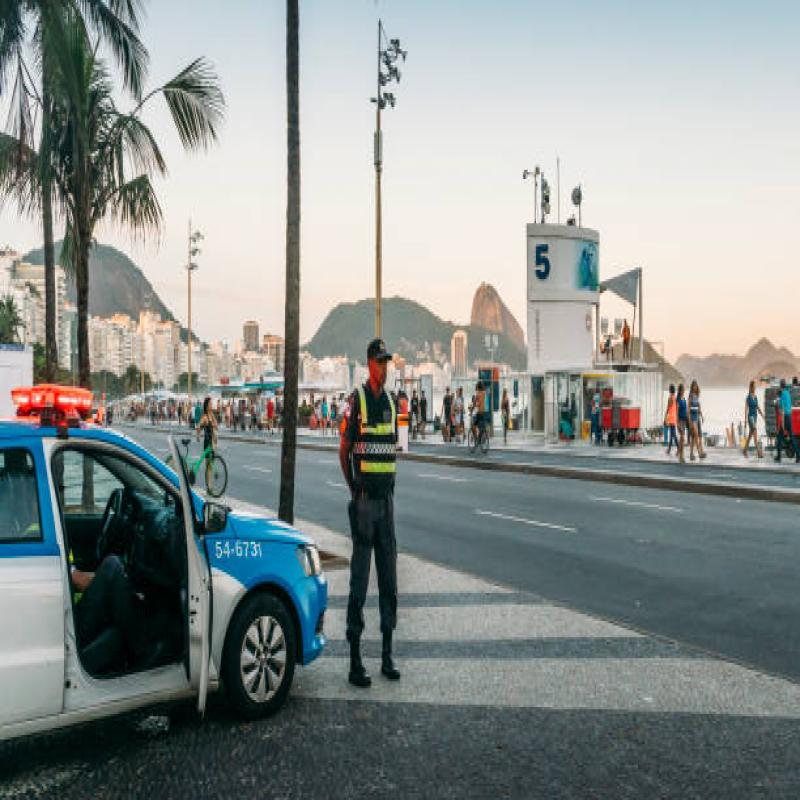AmbulanceSiren: (0, 373, 111, 432)
